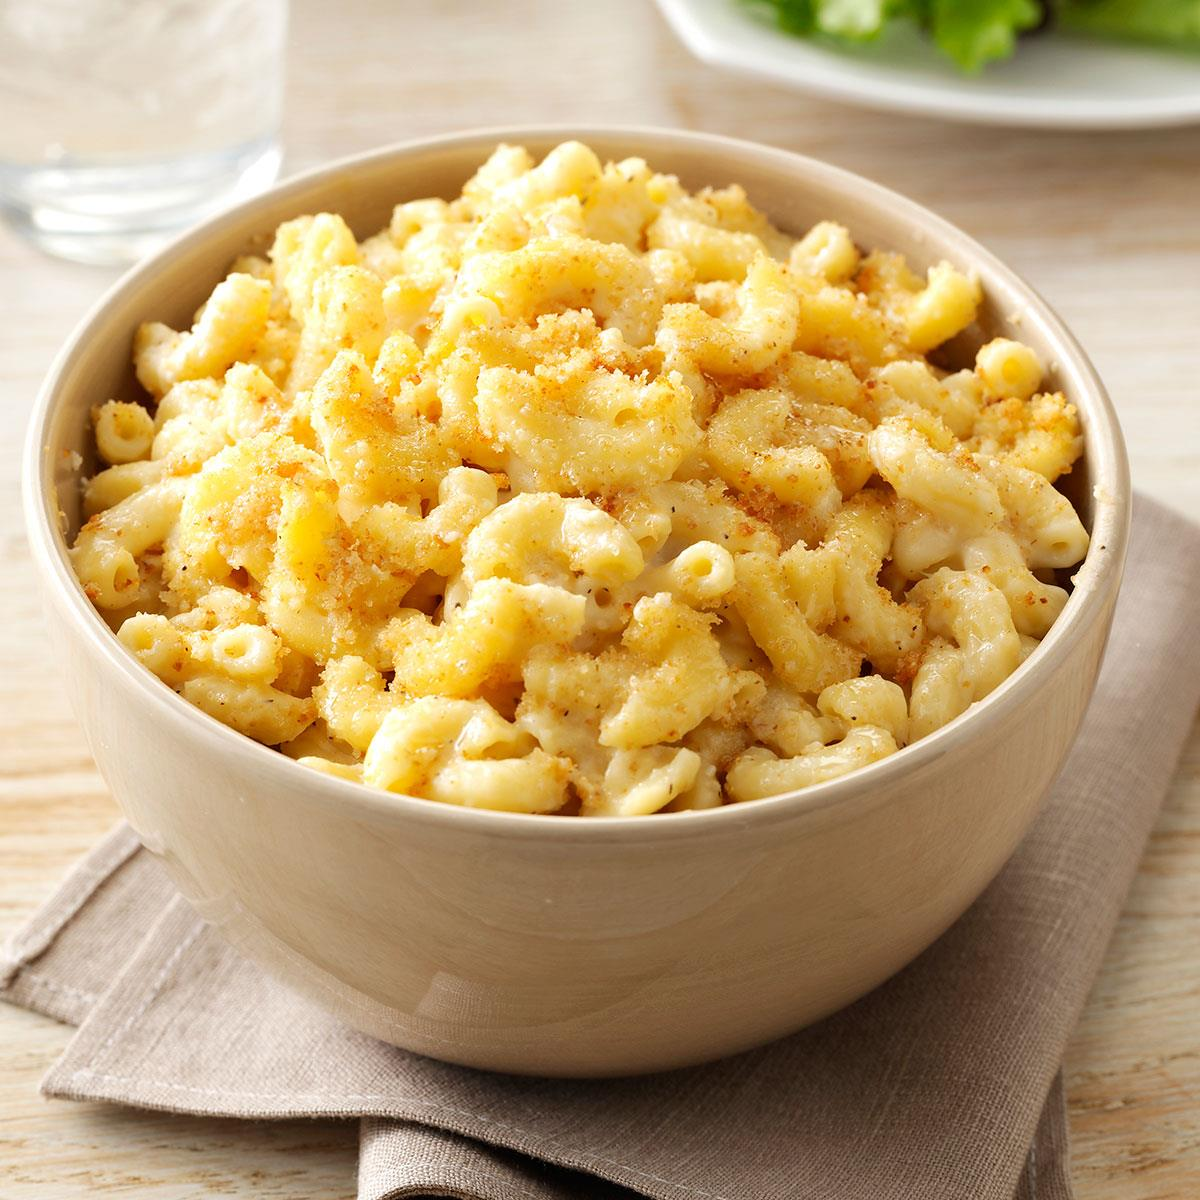macncheese: (71, 122, 1084, 829)
